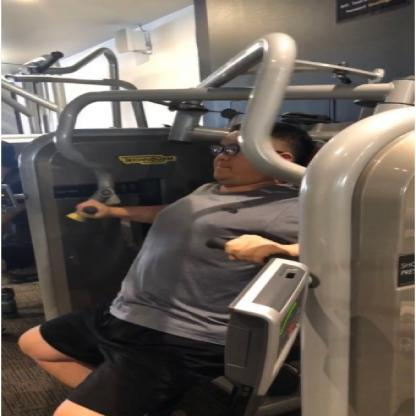Chest Press machine: (6, 30, 416, 416)
